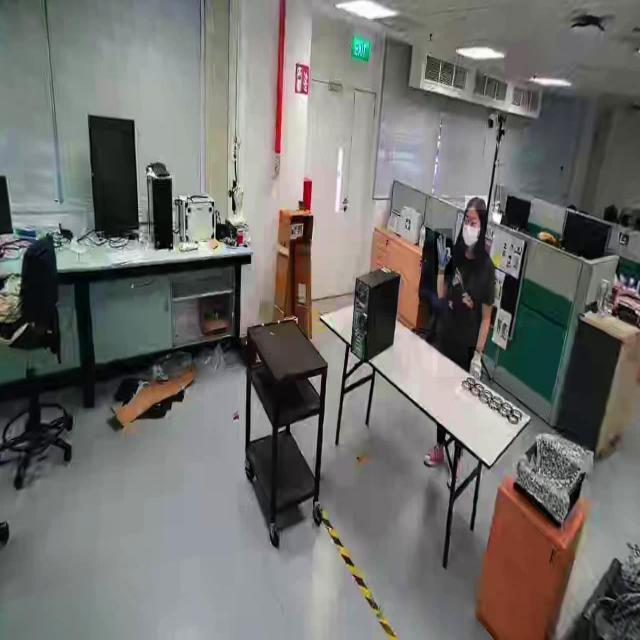boots: (422, 442, 447, 470)
gloves: (434, 228, 452, 274), (468, 346, 484, 386)
